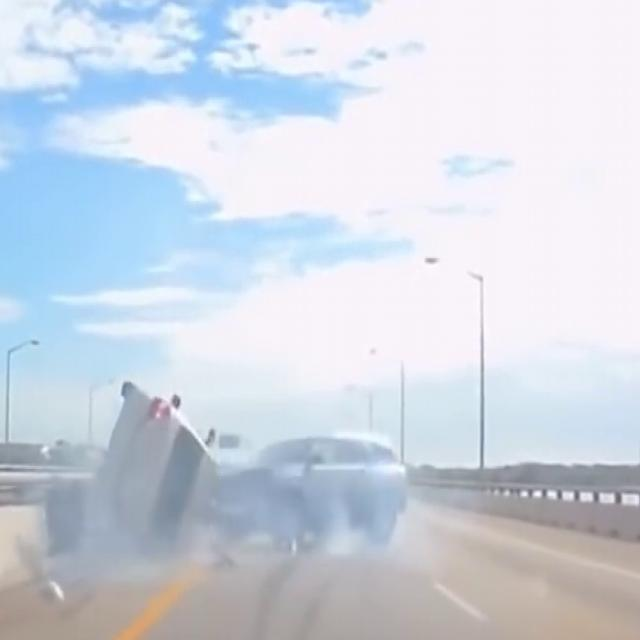accident: (81, 382, 415, 555), (96, 383, 214, 554)
